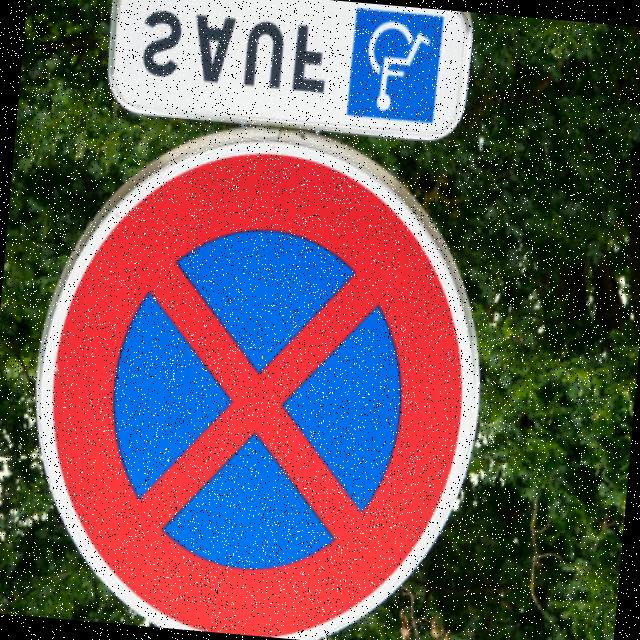no_parking: (4, 105, 502, 640)
